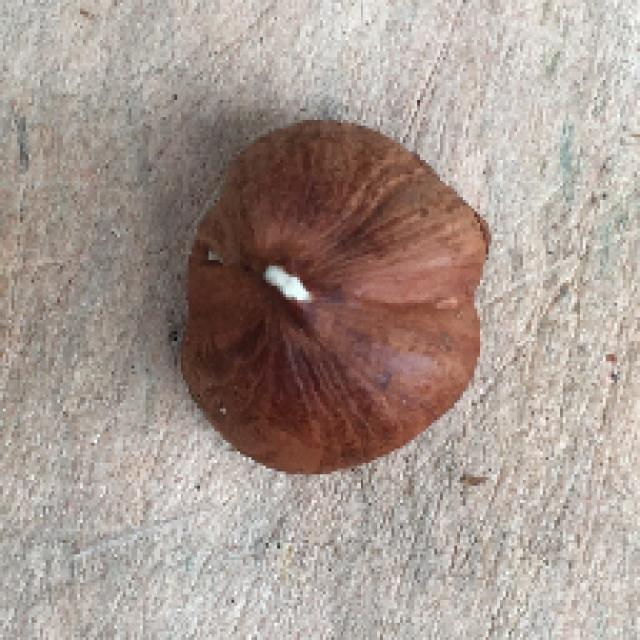hazelnut: (165, 103, 492, 488)
